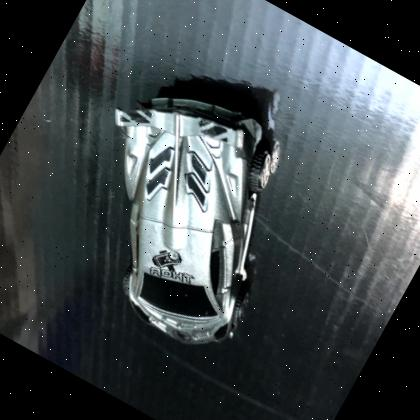Car: (115, 85, 273, 344)
